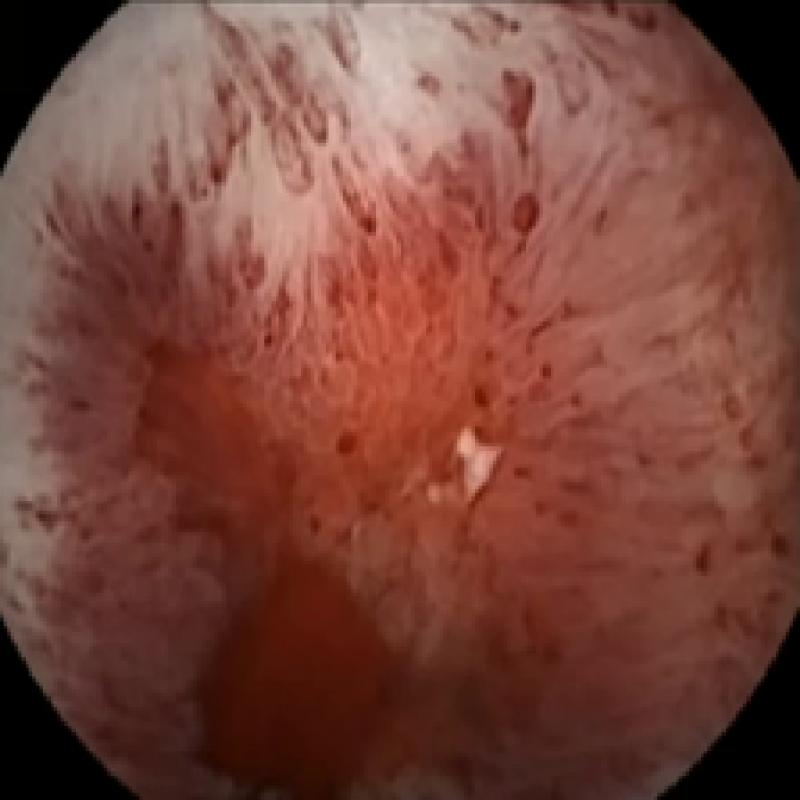bleeding: (95, 316, 447, 800), (472, 43, 546, 350)
